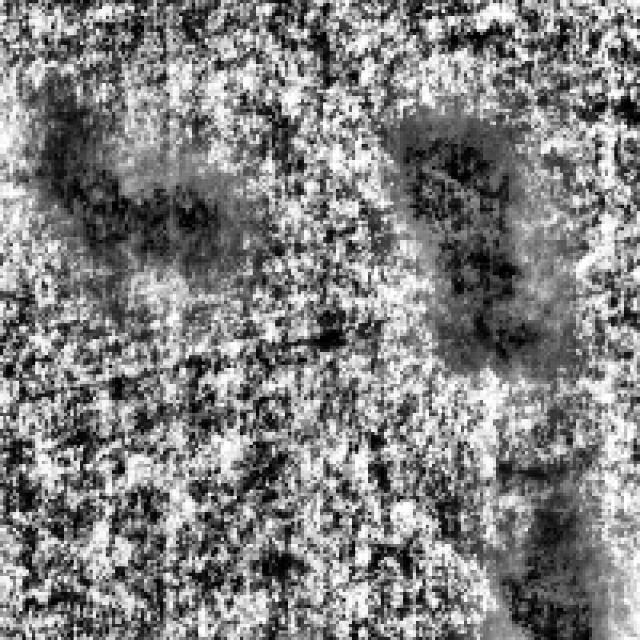Scratches: (384, 99, 544, 368), (32, 102, 227, 256), (489, 486, 602, 634)
